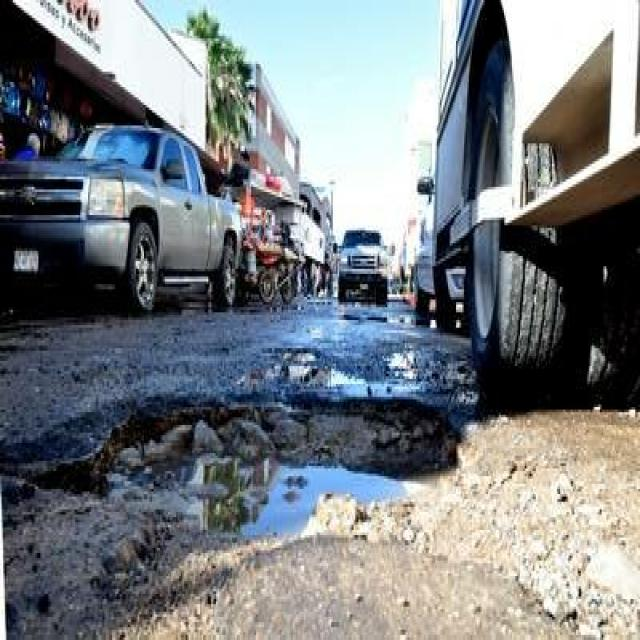Pothole: (5, 374, 480, 578), (270, 315, 346, 374)
